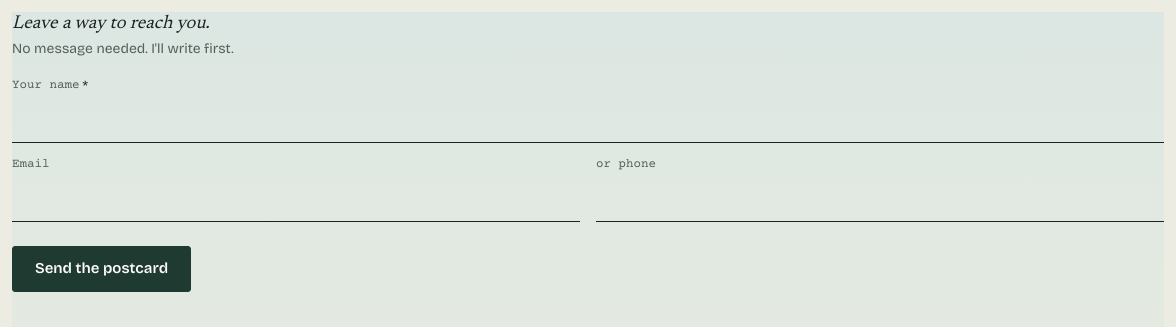
it: the lead form › falls back to the mail app when the server says it is not configured
In the field labelled "Your name*": (588, 121) [12,99,1164,143], type "Jamie"
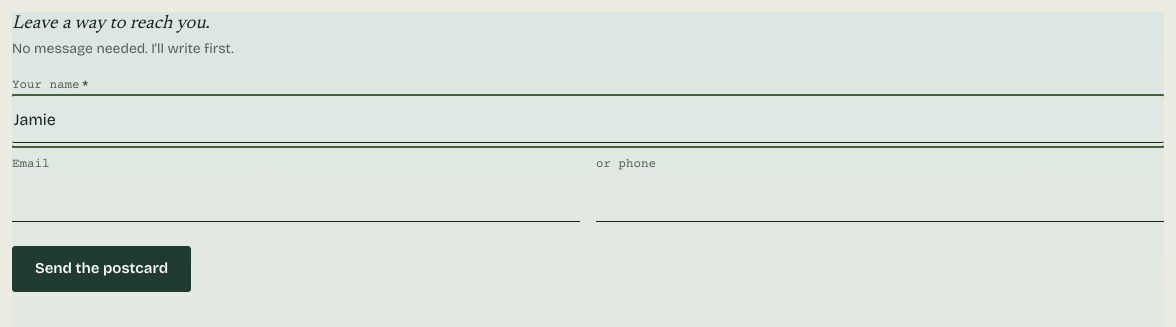
In the field labelled "Email": (296, 200) [12,178,580,222], type "jamie@example.com"
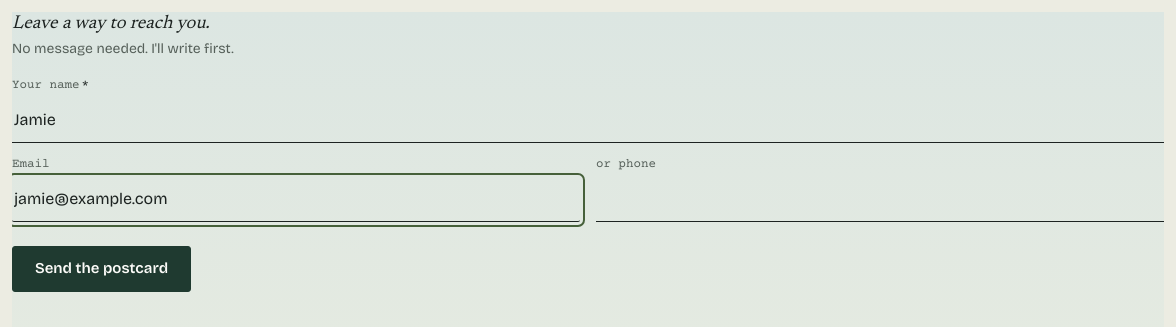
Click the button "Send the postcard": click(102, 269) [12,246,191,292]
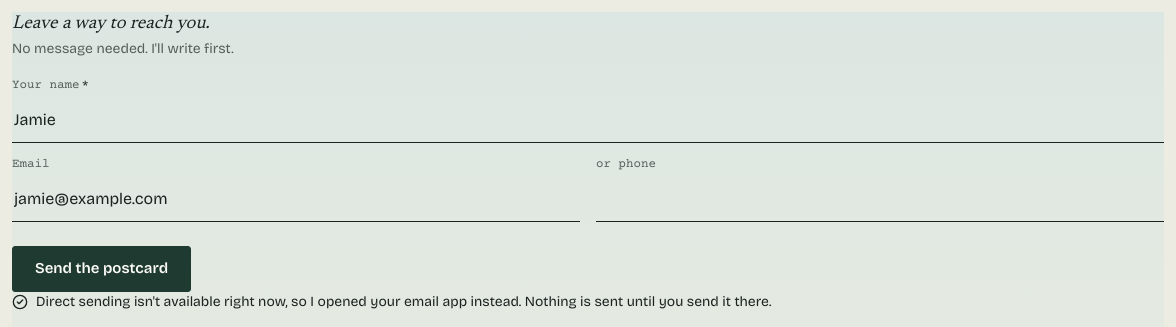
Expected: the message shows "email app", [36,293,771,310]
